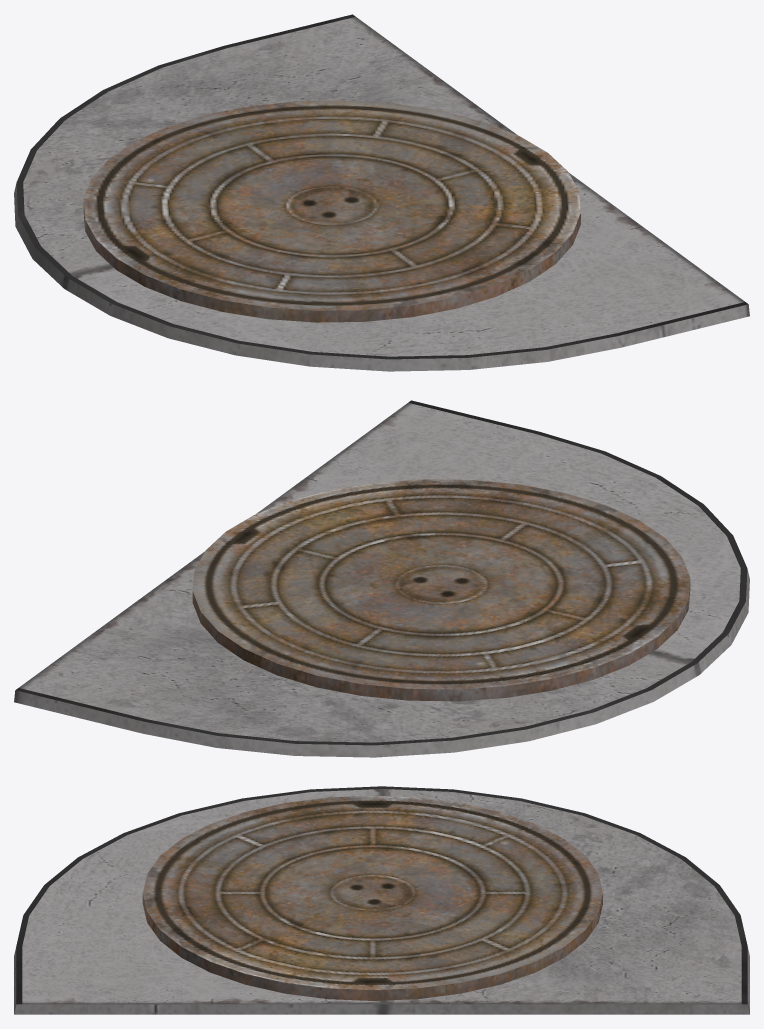
File: MB_Sewer_Hatch_S_01.fbx
The picture shows the model from 3 angles, top to bottom: view 1: azimuth 30°, elevation 25°; view 2: azimuth 150°, elevation 25°; view 3: azimuth 270°, elevation 25°; orthographic projection. The views are drawn at different scales.
Visible parts, largest first — view 1: MB_Sewer_Hatch_S_01_LOD0; view 2: MB_Sewer_Hatch_S_01_LOD0; view 3: MB_Sewer_Hatch_S_01_LOD0.
Part boxes in pixels (x1,y1,x2,y2): MB_Sewer_Hatch_S_01_LOD0: (14,14,749,371); MB_Sewer_Hatch_S_01_LOD0: (14,400,749,757); MB_Sewer_Hatch_S_01_LOD0: (14,786,749,1014).
Size of what is drawn, in the model's own units: 71.7 by 3.22 by 102.
